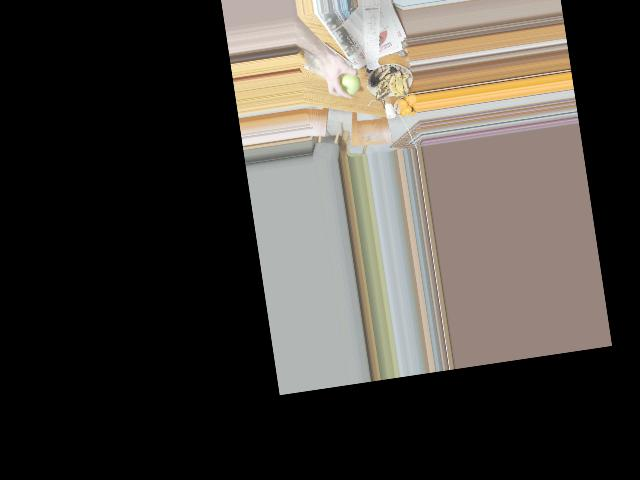apple: (335, 70, 362, 99)
